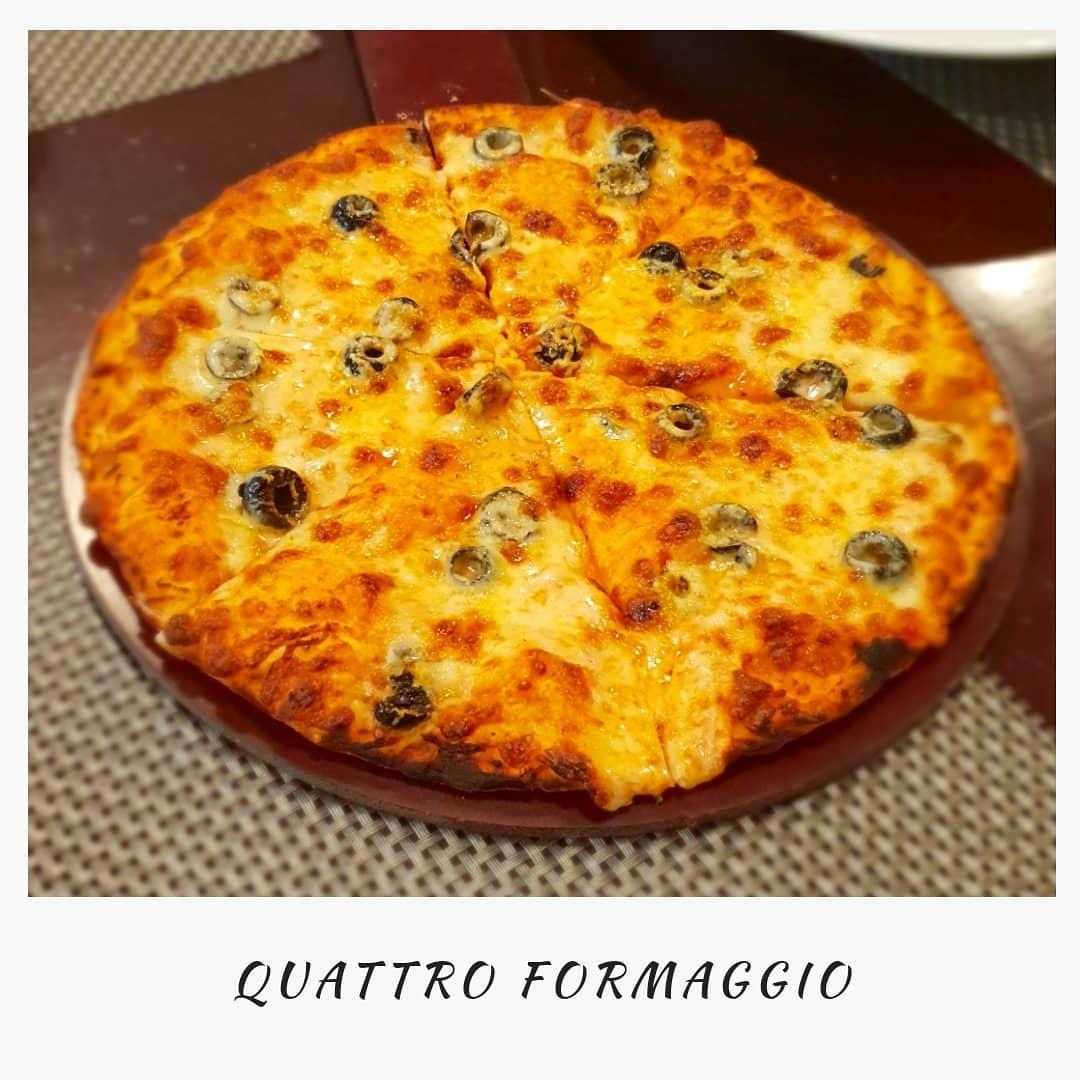Olives: (779, 357, 913, 447), (447, 487, 547, 588), (640, 236, 762, 305), (340, 296, 423, 380), (701, 497, 762, 579), (591, 122, 656, 196), (240, 463, 310, 528), (843, 529, 914, 578), (372, 671, 431, 728), (207, 329, 268, 382), (224, 271, 281, 315), (655, 398, 712, 442), (329, 193, 383, 234), (463, 209, 508, 252), (473, 124, 525, 161), (847, 250, 888, 279)
Pizza: (73, 107, 1025, 787)
